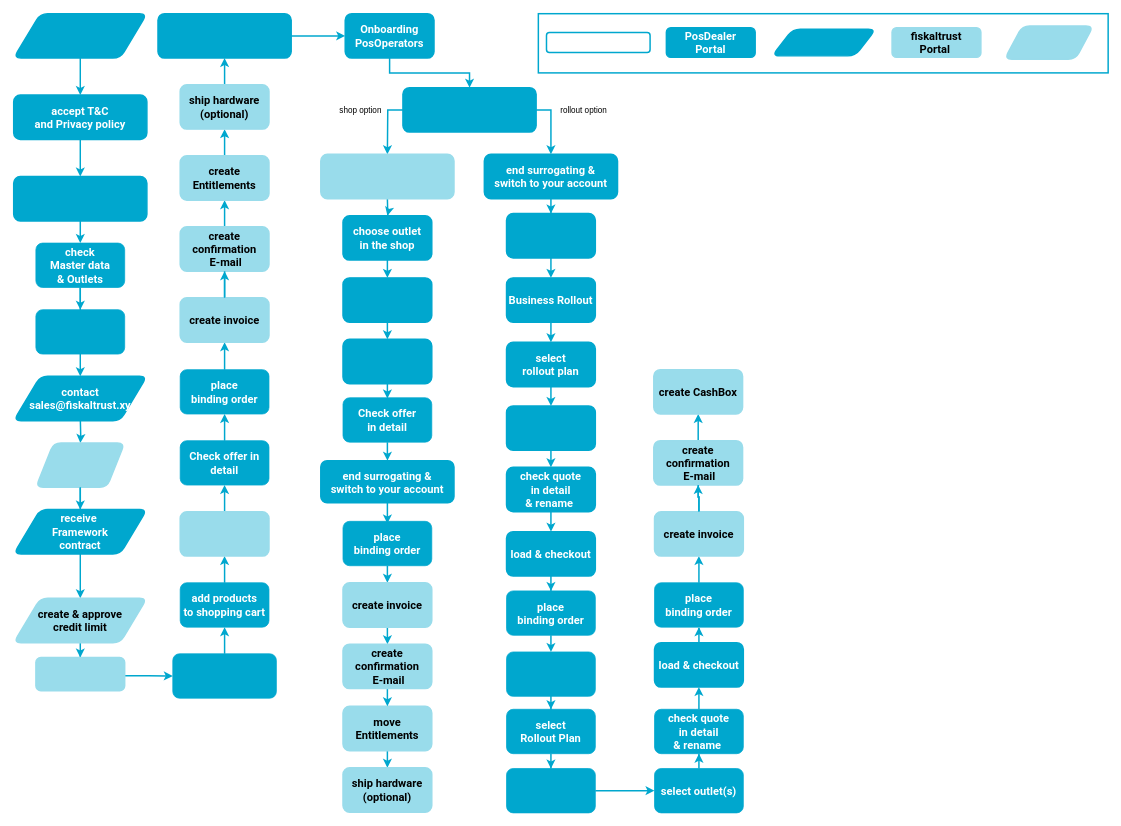
The diagram is 1121 pixels wide and 826 high, and some of its shapes have lost their labels. The shapes that lost their labels are listed below. From the top down, each one's centre as x and y in pixels, then its label:
At point 80,35: "Accept invitation from PosCreator".
At point 224,35: "check stock of Entitlements".
At point 597,42: "legend:".
At point 823,42: "PosDealer Contract".
At point 1048,42: "fiskaltrust action".
At point 469,109: "surrogate & check Master data & Outlets".
At point 387,176: "check stock [move, entitlement]".
At point 80,198: "sign cooperation contract".
At point 550,235: "choose Rollout Management".
At point 387,300: "Note the order of selection".
At point 80,331: "Determine demand".
At point 387,361: "add entitlements to shopping cart".
At point 550,428: "select outlet".
At point 80,465: "Framework agreement".
At point 224,533: "check credit limit".
At point 80,673: "provide price list".
At point 224,675: "check prices in the store".
At point 550,673: "technical rollout".
At point 550,790: "select PosOperator".
